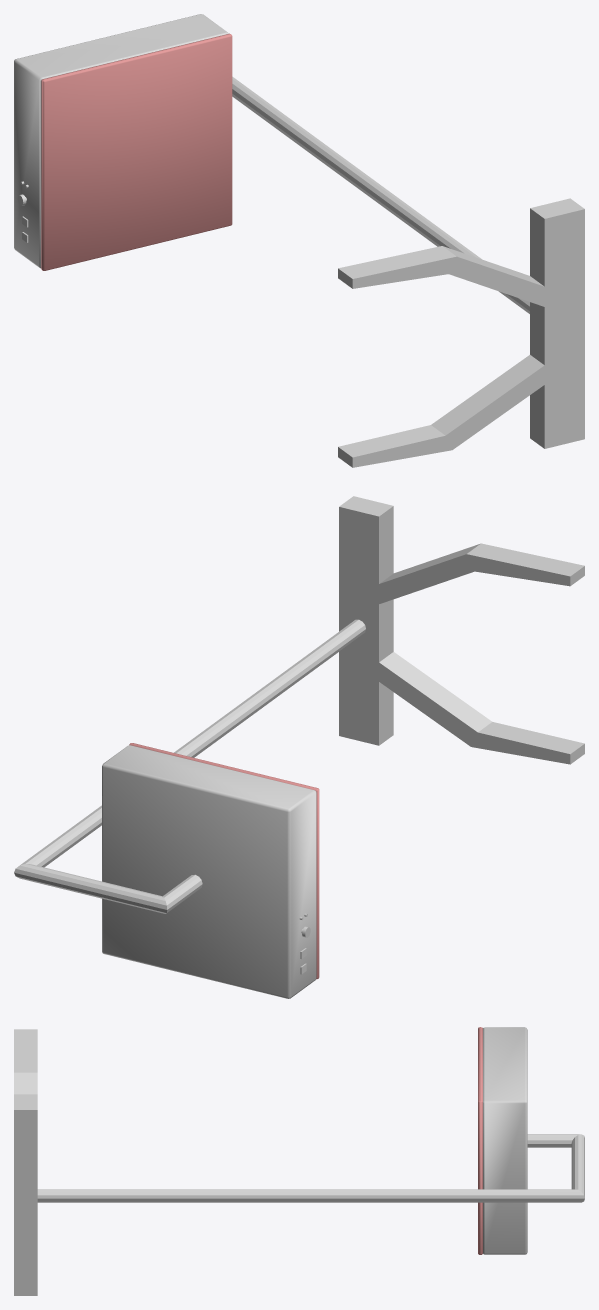
3 views of the same model, one above another, from view 1: azimuth 30°, elevation 25°; view 2: azimuth 150°, elevation 25°; view 3: azimuth 270°, elevation 25° (orthographic). The views are drawn at different scales.
Visible parts, largest first — view 1: Circle; view 2: Circle; view 3: Circle.
Boxes of the visible parts, left/top/right/bottom form: Circle: left=14, top=14, right=584, bottom=467; Circle: left=14, top=496, right=584, bottom=998; Circle: left=14, top=1027, right=584, bottom=1295.
Bounding box in the file's own units: 69.58 × 58.99 × 164.
